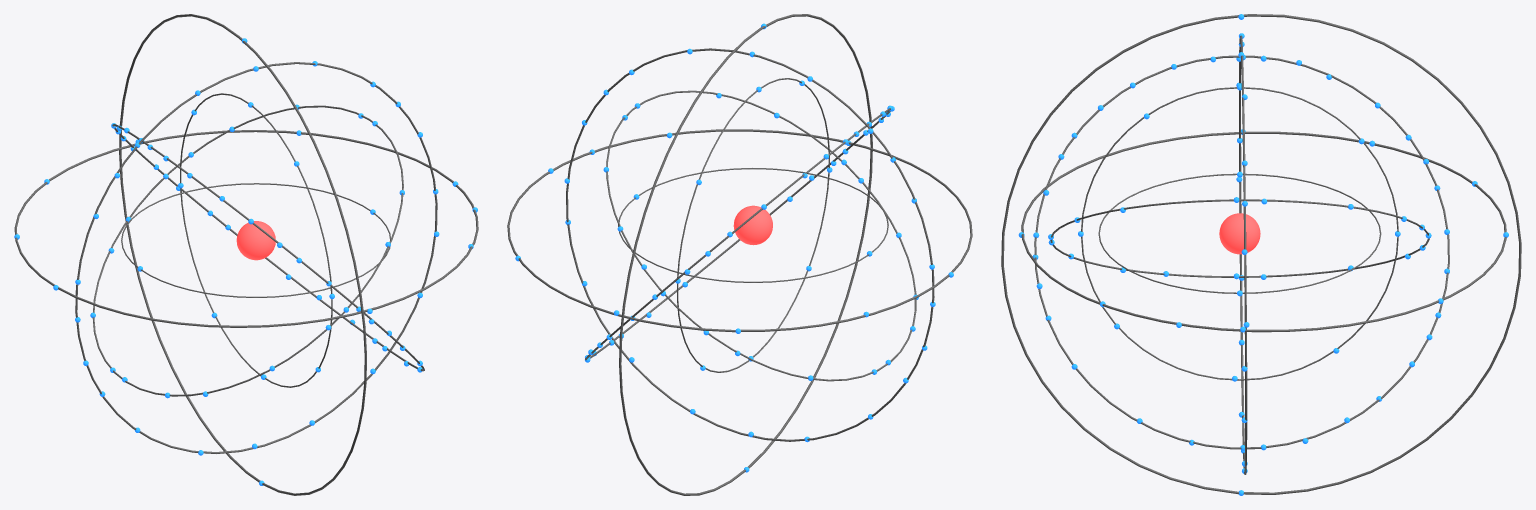
The picture shows the model from 3 angles, left to right: view 1: azimuth 30°, elevation 25°; view 2: azimuth 150°, elevation 25°; view 3: azimuth 270°, elevation 25°; orthographic projection. The views are drawn at different scales.
Visible parts, largest first — view 1: Orbit_7, Orbit_6, Orbit_5, Orbit_3, Orbit_4, Orbit_2, Proton, Orbit_1; view 2: Orbit_7, Orbit_6, Orbit_5, Orbit_3, Orbit_4, Orbit_2, Proton, Orbit_1; view 3: Orbit_7, Orbit_6, Orbit_4, Orbit_2, Orbit_5, Orbit_3, Orbit_1, Proton.
Boxes of the visible parts, <box> form: Orbit_7: <box>119,14,366,495</box>; Orbit_6: <box>14,130,478,327</box>; Orbit_5: <box>75,62,437,453</box>; Orbit_3: <box>92,105,403,396</box>; Orbit_4: <box>112,124,424,371</box>; Orbit_2: <box>180,93,332,387</box>; Proton: <box>236,221,275,260</box>; Orbit_1: <box>121,183,390,297</box>; Orbit_7: <box>619,14,872,495</box>; Orbit_6: <box>507,129,972,332</box>; Orbit_5: <box>566,48,934,441</box>; Orbit_3: <box>606,90,916,381</box>; Orbit_4: <box>585,108,890,360</box>; Orbit_2: <box>677,78,829,372</box>; Proton: <box>733,205,772,245</box>; Orbit_1: <box>618,168,888,282</box>; Orbit_7: <box>1001,14,1521,494</box>; Orbit_6: <box>1021,131,1506,332</box>; Orbit_4: <box>1034,55,1449,449</box>; Orbit_2: <box>1081,87,1398,380</box>; Orbit_5: <box>1239,35,1247,474</box>; Orbit_3: <box>1050,199,1429,277</box>; Orbit_1: <box>1098,173,1381,293</box>; Proton: <box>1219,213,1260,254</box>.
Size of the model in its own units: 6.98 by 7.46 by 7.44.
